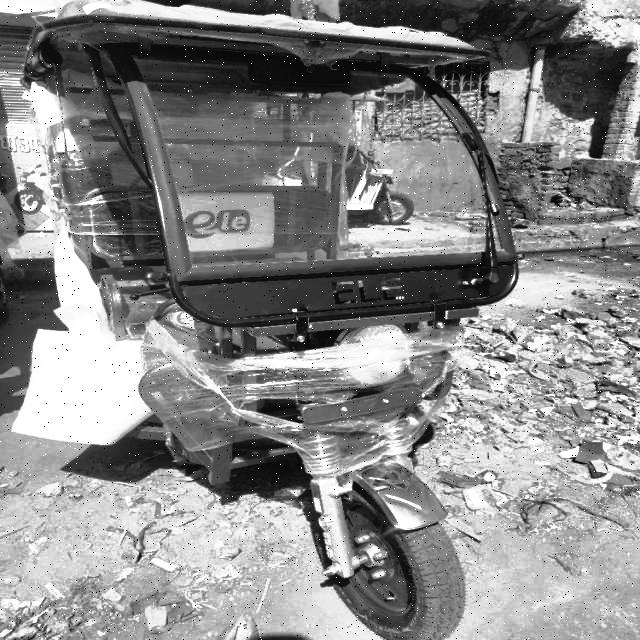Toto: (43, 1, 524, 640)
